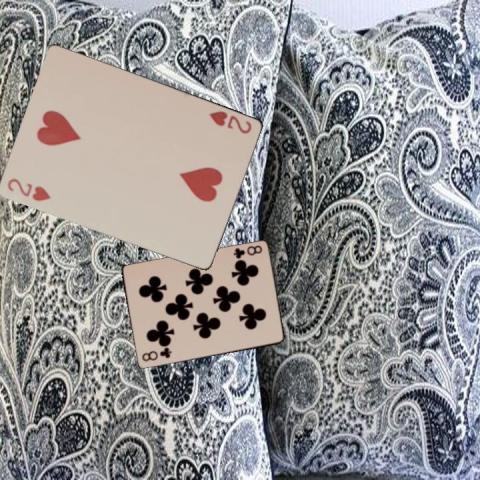2h: (207, 107, 254, 136), (5, 174, 53, 202)
8c: (138, 346, 172, 363), (230, 243, 263, 260)
